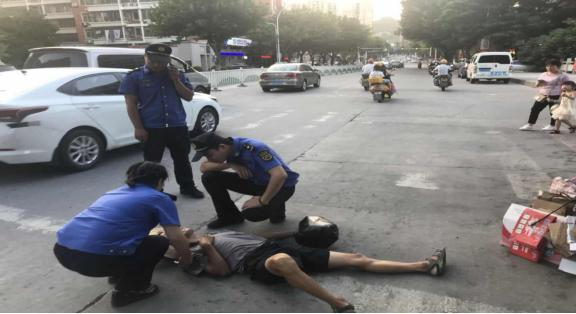fall: (163, 214, 457, 308)
